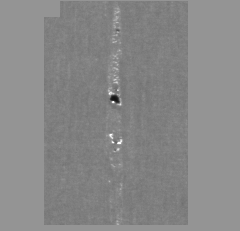oxl: (35, 10, 205, 221)
